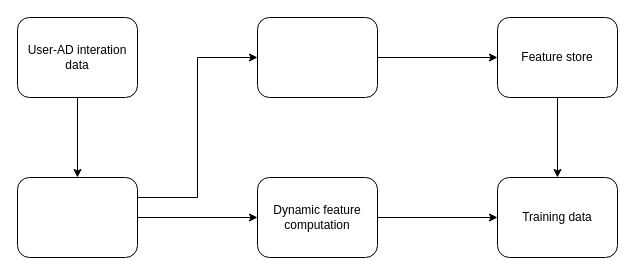
The diagram is 635 pixels wide and 275 high, and some of its shapes have lost their labels. Each missing label, with the centre of its shape:
"Batch feature computation" goes at point (317, 57).
"Data lake" goes at point (77, 217).
